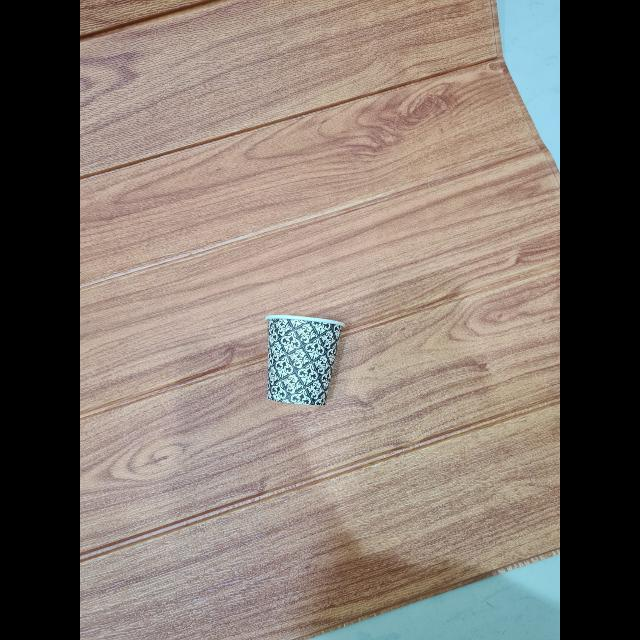trash: (261, 308, 351, 412)
